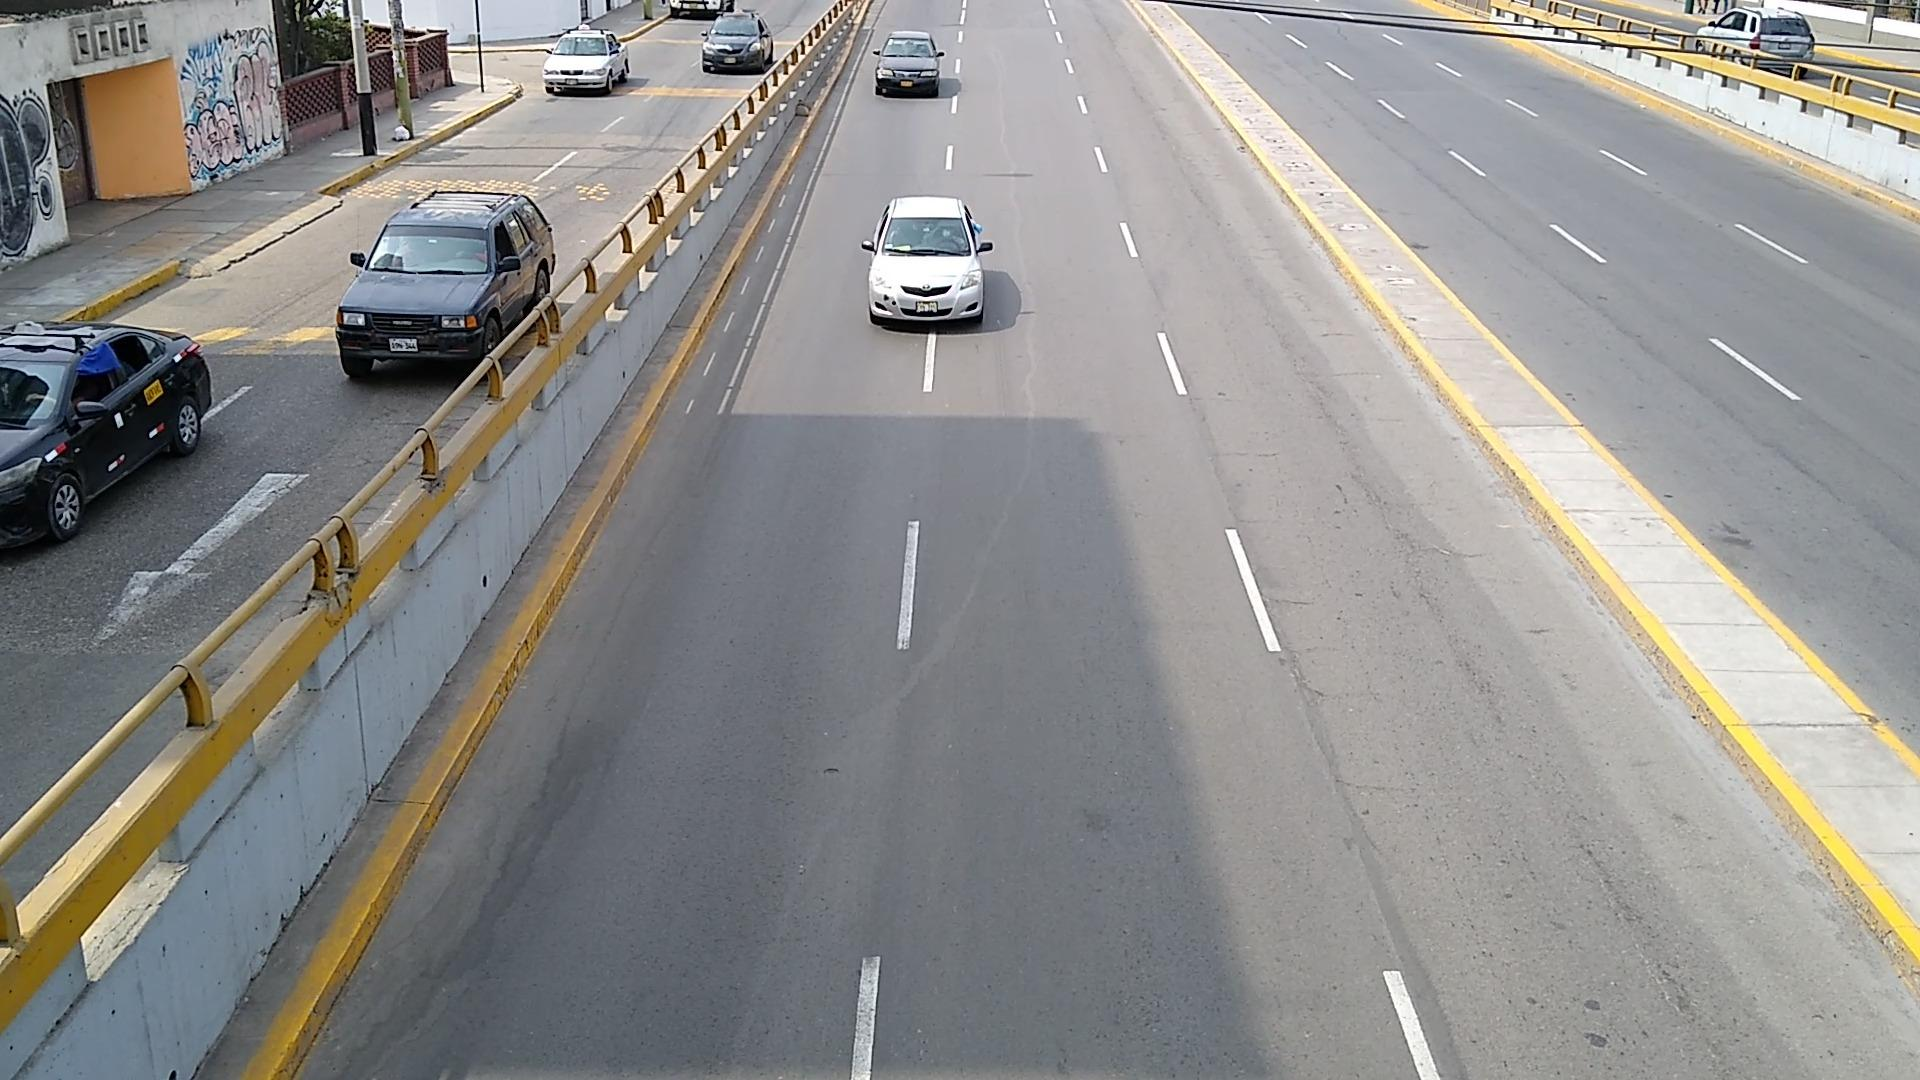car: (0, 323, 210, 546), (338, 191, 555, 373), (862, 195, 990, 320), (1698, 8, 1815, 63), (543, 30, 630, 92), (874, 30, 945, 92), (702, 12, 773, 70)
